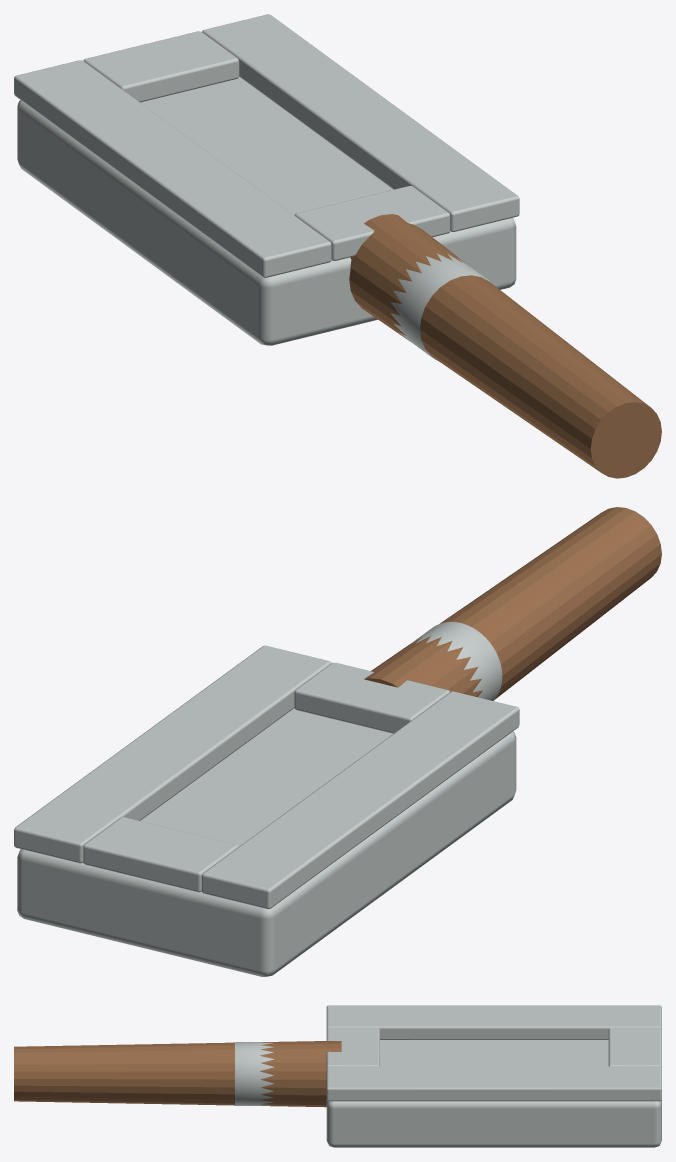
Rendered from tea-garden-and-processing-house-tea-garden-and-process-4f5f61c1__30792.glb.
3 renders of one model, top to bottom at view 1: azimuth 30°, elevation 25°; view 2: azimuth 150°, elevation 25°; view 3: azimuth 270°, elevation 25°, orthographic. The views are drawn at different scales.
Parts seen in each view (by area): view 1: tea-garden-and-processing-house-tea-scoop; view 2: tea-garden-and-processing-house-tea-scoop; view 3: tea-garden-and-processing-house-tea-scoop.
Part boxes in pixels (left/top/right/bottom): tea-garden-and-processing-house-tea-scoop: left=14, top=14, right=661, bottom=478; tea-garden-and-processing-house-tea-scoop: left=14, top=507, right=661, bottom=976; tea-garden-and-processing-house-tea-scoop: left=14, top=1005, right=661, bottom=1147.
Bounding box in the file's own units: 0.13 × 0.047 × 0.425.
